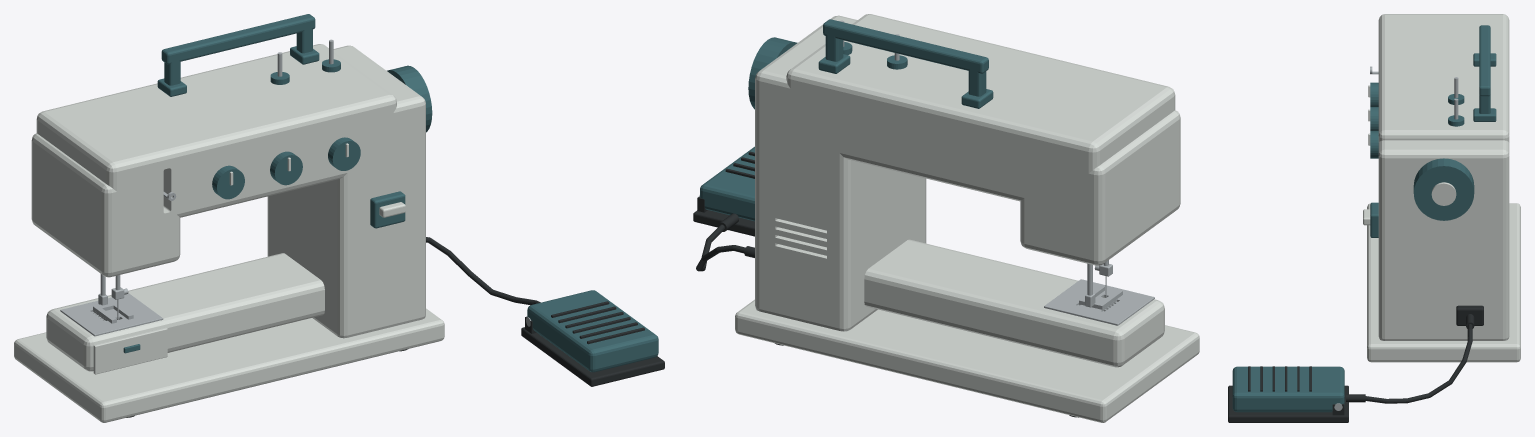
3 views of the same model, side by side, from view 1: azimuth 30°, elevation 25°; view 2: azimuth 150°, elevation 25°; view 3: azimuth 270°, elevation 25° (orthographic). The views are drawn at different scales.
Visible parts, largest first — view 1: Enclosed electric chassis, Controller tread, Lift handle, Closed bobbin hatch, Controller sole, Needle plate, Handwheel, Reverse control seat, Control dial.001, Control dial, Control dial.002, Connected controller cable; view 2: Enclosed electric chassis, Lift handle, Controller tread, Needle plate, Handwheel, Controller sole, Connected controller cable; view 3: Enclosed electric chassis, Controller tread, Handwheel, Controller sole, Lift handle, Connected controller cable, Electrical socket, Handwheel hub cap, Reverse control seat.
Part boxes in pixels (bbox=[...]): Enclosed electric chassis: bbox=[14, 44, 444, 422]; Controller tread: bbox=[527, 290, 658, 372]; Lift handle: bbox=[161, 14, 315, 85]; Closed bobbin hatch: bbox=[93, 327, 167, 374]; Controller sole: bbox=[521, 327, 664, 386]; Needle plate: bbox=[60, 293, 163, 336]; Handwheel: bbox=[387, 65, 432, 132]; Reverse control seat: bbox=[370, 191, 405, 228]; Control dial.001: bbox=[270, 151, 302, 185]; Control dial: bbox=[212, 165, 244, 199]; Control dial.002: bbox=[328, 137, 360, 170]; Connected controller cable: bbox=[426, 237, 540, 305]; Enclosed electric chassis: bbox=[735, 14, 1199, 422]; Lift handle: bbox=[823, 19, 988, 96]; Controller tread: bbox=[700, 146, 754, 221]; Needle plate: bbox=[1044, 279, 1154, 325]; Handwheel: bbox=[748, 37, 797, 109]; Controller sole: bbox=[693, 210, 754, 236]; Connected controller cable: bbox=[696, 224, 745, 271]; Enclosed electric chassis: bbox=[1367, 14, 1520, 362]; Controller tread: bbox=[1232, 366, 1344, 412]; Handwheel: bbox=[1413, 158, 1474, 220]; Controller sole: bbox=[1228, 385, 1348, 422]; Lift handle: bbox=[1479, 25, 1490, 113]; Connected controller cable: bbox=[1365, 324, 1472, 403]; Electrical socket: bbox=[1456, 305, 1483, 325]; Handwheel hub cap: bbox=[1431, 182, 1456, 205]; Reverse control seat: bbox=[1370, 202, 1378, 237].
Bounding box in the file's own units: 0.583 × 0.343 × 0.358.
